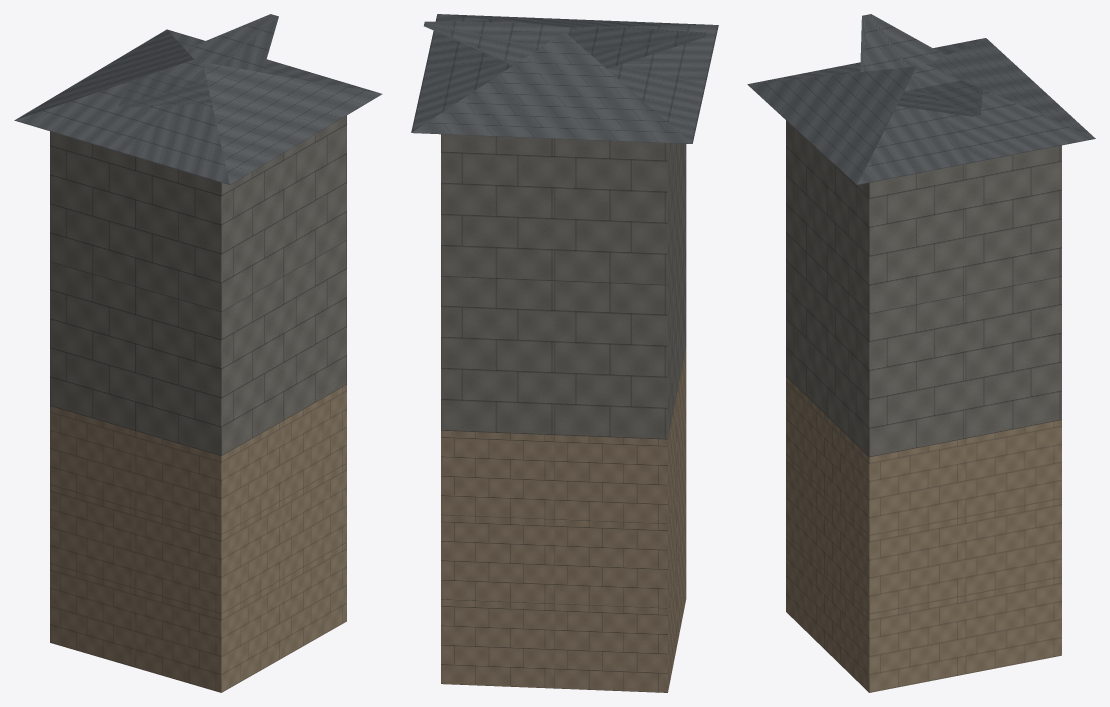
Rendered from bld_c23_31_387.gltf.
The picture shows the model from 3 angles, left to right: view 1: azimuth 30°, elevation 25°; view 2: azimuth 150°, elevation 25°; view 3: azimuth 270°, elevation 25°; orthographic projection. The views are drawn at different scales.
Parts seen in each view (by area): view 1: bld_c23_31_387; view 2: bld_c23_31_387; view 3: bld_c23_31_387.
Boxes of the visible parts, left/top/right/bottom form: bld_c23_31_387: left=14, top=14, right=382, bottom=692; bld_c23_31_387: left=411, top=14, right=718, bottom=692; bld_c23_31_387: left=747, top=14, right=1095, bottom=692.
Size of the model in its own units: 6.84 by 12.3 by 6.84.
3 materials, 3 textured.
